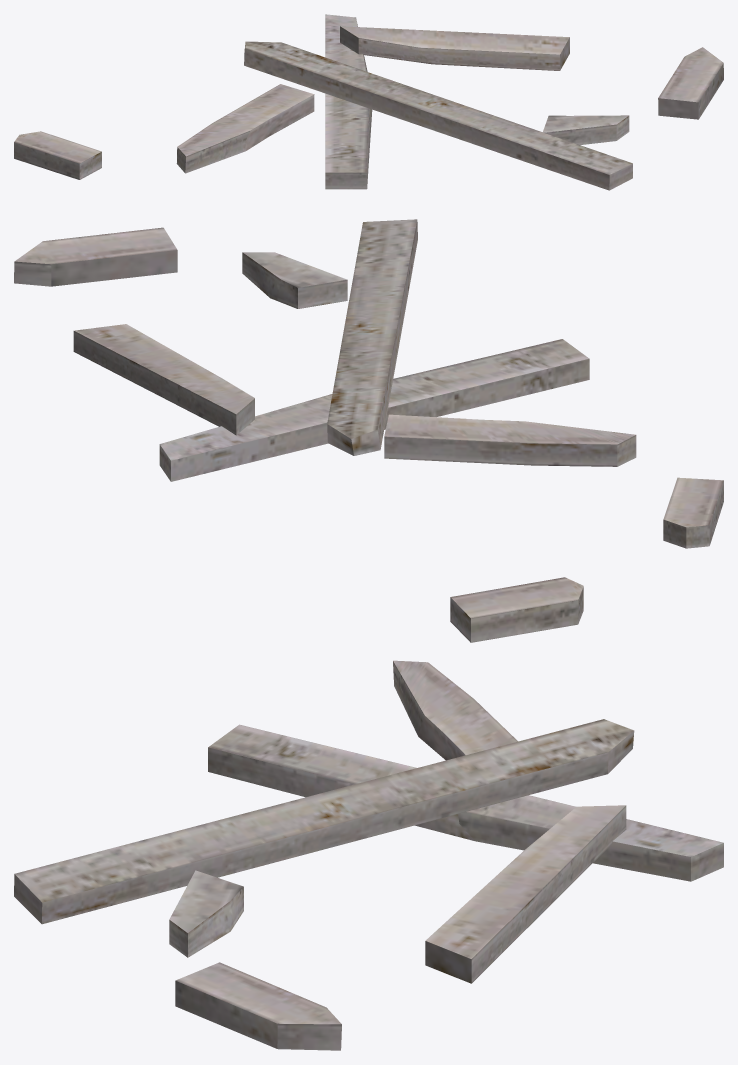
File: Prop_Railings5e.glb
The picture shows the model from 3 angles, top to bottom: view 1: azimuth 30°, elevation 25°; view 2: azimuth 150°, elevation 25°; view 3: azimuth 270°, elevation 25°; orthographic projection. The views are drawn at different scales.
Visible parts, largest first — view 1: xiutz_railings5e; view 2: xiutz_railings5e; view 3: xiutz_railings5e.
Boxes of the visible parts, x1=… form: xiutz_railings5e: x1=14, y1=14, x2=723, y2=190; xiutz_railings5e: x1=14, y1=219, x2=723, y2=548; xiutz_railings5e: x1=14, y1=577, x2=723, y2=1050.
Size of the model in its own units: 3.79 by 0.2468 by 2.54.
1 material, 1 textured.
